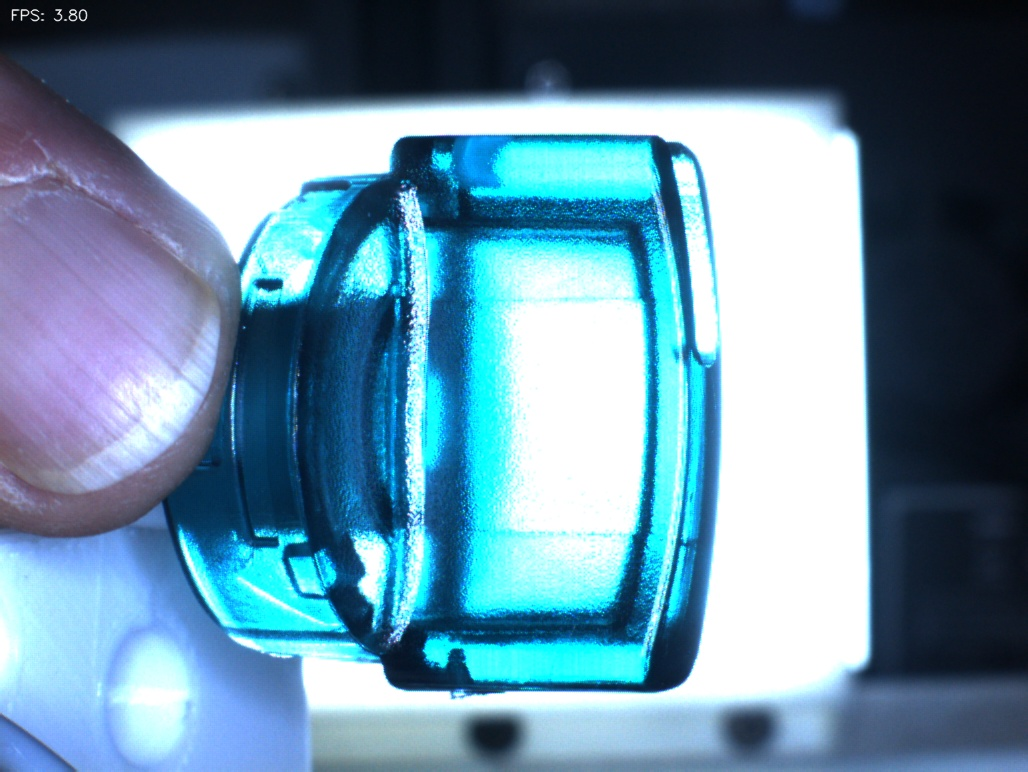Bulle: (411, 616, 500, 706)
